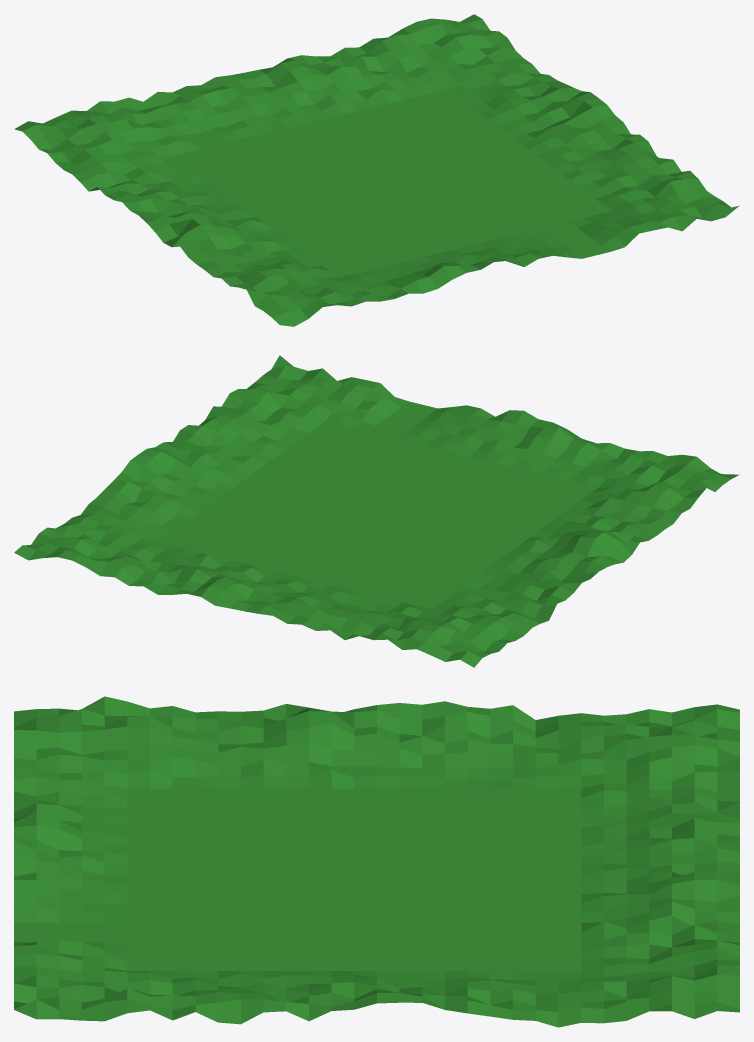
The model's file is Funfair_area.fbx.
3 views of the same model, one above another, from view 1: azimuth 30°, elevation 25°; view 2: azimuth 150°, elevation 25°; view 3: azimuth 270°, elevation 25° (orthographic). The views are drawn at different scales.
Parts seen in each view (by area): view 1: Game map; view 2: Game map; view 3: Game map.
Boxes of the visible parts, left/top/right/bottom form: Game map: left=14, top=14, right=739, bottom=326; Game map: left=14, top=355, right=739, bottom=667; Game map: left=14, top=696, right=739, bottom=1027.
Size of the model in its own units: 29911 by 1396 by 29911.
